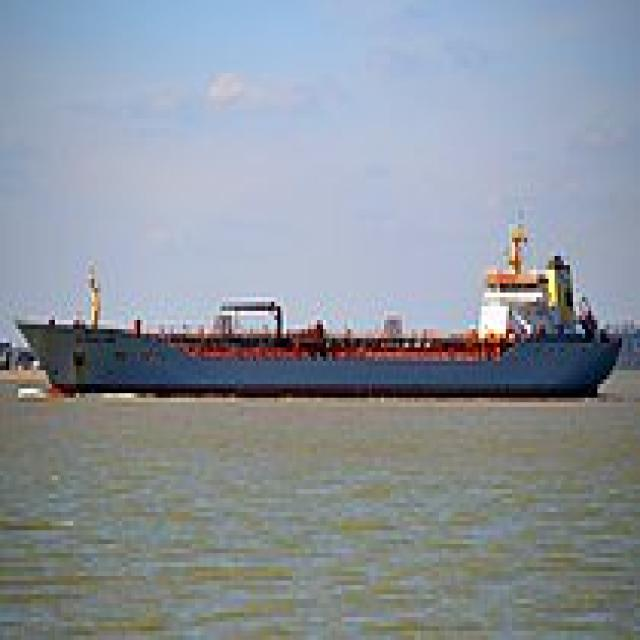Tanker: (6, 220, 622, 393)
